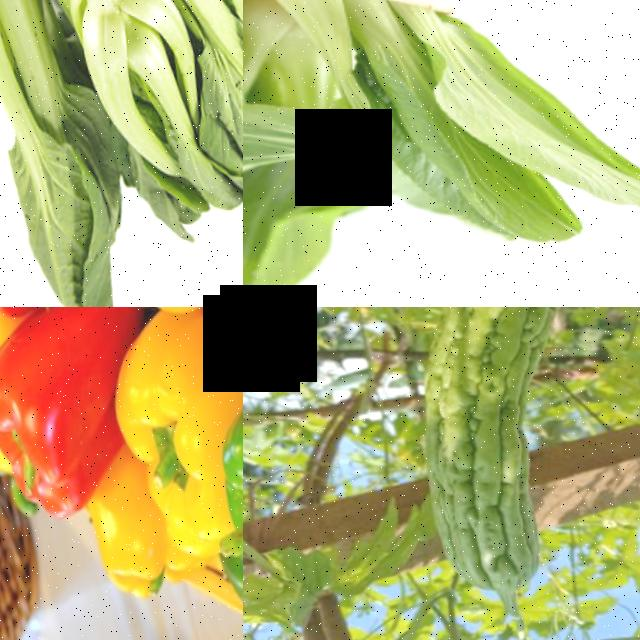bell pepper: (111, 342, 228, 512), (0, 341, 96, 506), (72, 471, 147, 583), (203, 394, 243, 598)
bitter gourd: (354, 307, 632, 622)
bok choy: (282, 0, 637, 307), (61, 0, 187, 206), (134, 0, 243, 106)
